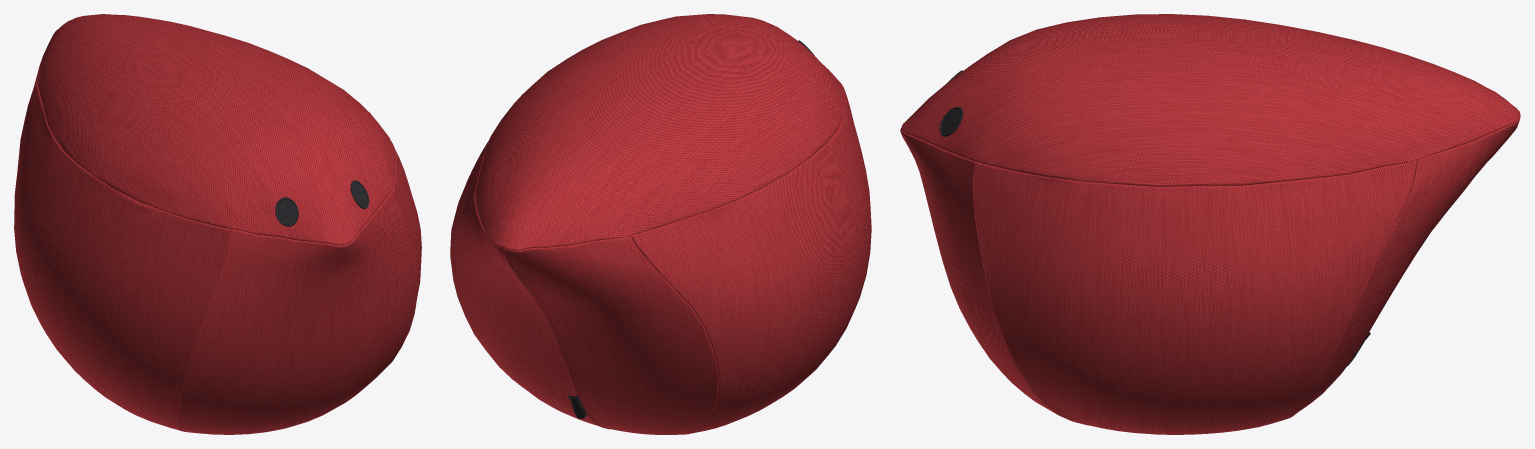
File: Hulsta_Birdy_Pouf_mat(6).fbx
3 renders of one model, left to right at view 1: azimuth 30°, elevation 25°; view 2: azimuth 150°, elevation 25°; view 3: azimuth 270°, elevation 25°, orthographic. The views are drawn at different scales.
Visible parts, largest first — view 1: Hulsta_Birdy_Pouf_mat6; view 2: Hulsta_Birdy_Pouf_mat6; view 3: Hulsta_Birdy_Pouf_mat6.
Part boxes in pixels (x1,y1,x2,y2): Hulsta_Birdy_Pouf_mat6: (14, 14, 421, 434); Hulsta_Birdy_Pouf_mat6: (450, 14, 871, 434); Hulsta_Birdy_Pouf_mat6: (900, 14, 1520, 434).
Size of the model in its own units: 50.8 by 74.33 by 48.
